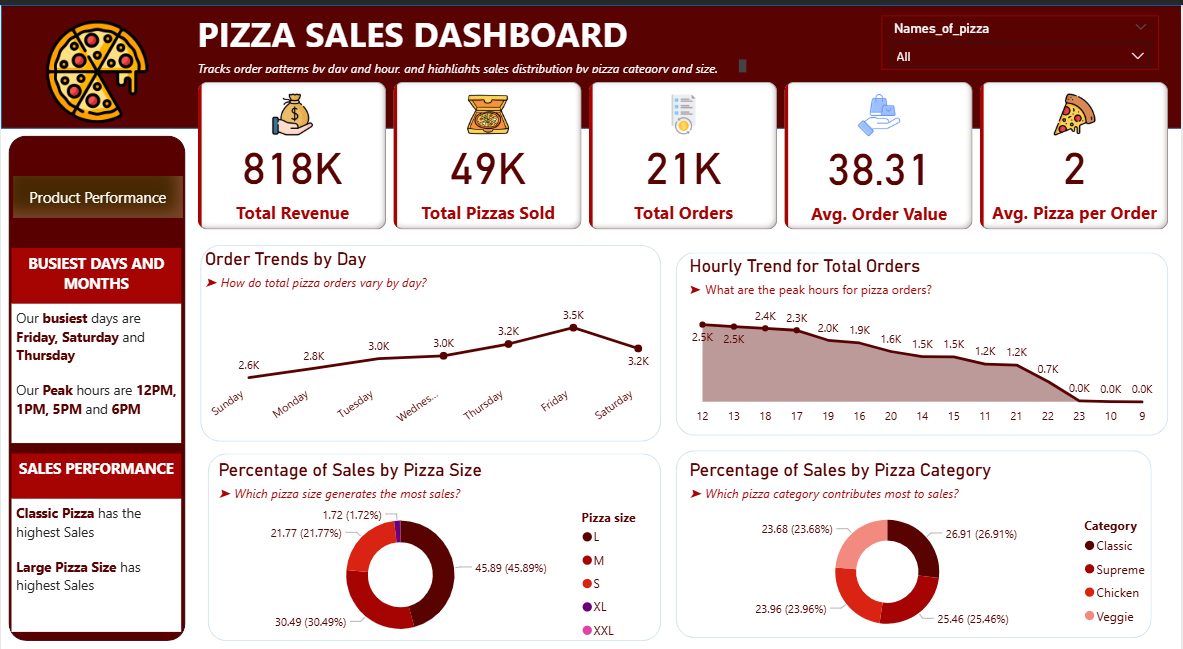

The page's visual inventory and layout, read from the dashboard file:
{"tool":"powerbi","page":{"name":"Sales Trends Overview","canvas":[1280,720],"ordinal":0},"visuals":[{"type":"shape","box":[0,0,1280.5,134.2],"z":0},{"type":"shape","box":[0,133.4,208.2,564.4],"z":1000},{"type":"cardVisual","fields":{"Data":["Sum(KPI's - TOTAL REVENUE.Column1)","Sum(KPI's - Total pizzas sold.Column1)","Sum(KPI's - Total orders.Column1)","Sum(KPI's - Average order value.Column1)","Sum(KPI's - Average pizza per order.Column1)"]},"box":[208.2,78.1,1065.4,170.8],"z":2000},{"type":"shape","box":[208.2,252.1,515.6,229.3],"z":3000},{"type":"shape","box":[723.8,260.2,549.8,214.7],"z":4000},{"type":"shape","box":[216.3,478.2,507.5,219.6],"z":5000},{"type":"shape","box":[723.8,475,531.9,219.6],"z":6000},{"type":"textbox","box":[208.2,0,582.3,66.7],"z":7000},{"type":"image","box":[0,11.4,208.2,122],"z":8000},{"type":"lineChart","title":"Order Trends by Day","fields":{"Y":["Sum(QUESTIONS 1 - Daily Trends For Total Orders.Column2)"],"Category":["QUESTIONS 1 - Daily Trends For Total Orders.Day"]},"box":[216.3,263.5,507.5,204.9],"z":9000},{"type":"lineChart","title":"Hourly Trend for Total Orders","fields":{"Y":["Sum(Question 2 - Hourly trends for total orders.Orders)"],"Category":["Question 2 - Hourly trends for total orders.Hour"]},"box":[741.7,271.6,514,191.9],"z":10000},{"type":"donutChart","title":"Percentage of Sales by Pizza Category","fields":{"Category":["Question 3 - Percentage of Sales.Category"],"Y":["Sum(Question 3 - Percentage of Sales.Percentage sales)"]},"box":[741.7,492.8,514,198.4],"z":11000},{"type":"donutChart","title":"Percentage of Sales by Pizza Size","fields":{"Category":["Question 4 - Percentage of Sales - size.Pizza size"],"Y":["Sum(Question 4 - Percentage of Sales - size.Percentage of sales)"]},"box":[231,492.8,481.5,204.9],"z":12000},{"type":"textbox","box":[11.4,323.7,183.8,151.3],"z":13000},{"type":"textbox","box":[11.4,263.5,183.8,60.2],"z":14000},{"type":"textbox","box":[11.4,535.1,183.8,144.8],"z":15000},{"type":"textbox","box":[11.4,486.3,183.8,48.8],"z":16000},{"type":"textbox","box":[208.2,53.7,605.1,24.4],"z":17000},{"type":"actionButton","title":"Product Performance Breakdown","box":[13,185.4,183.8,45.5],"z":18000},{"type":"slicer","fields":{"Values":["name.Names_of_pizza"]},"box":[954.8,11.4,300.9,58.6],"z":18001}]}

Visuals, with their boxes in screenshot pixels (x1, y1, x2, y2), scaled from the page's 1280x720 canvas onto the 1183x649 screenshot:
shape: 0 0 1182 121
shape: 0 120 192 629
cardVisual - Sum(KPI's - TOTAL REVENUE.Column1) x Sum(KPI's - Total pizzas sold.Column1): 192 70 1177 224
shape: 192 227 669 434
shape: 669 235 1177 428
shape: 200 431 669 629
shape: 669 428 1161 626
textbox: 192 0 731 60
image: 0 10 192 120
"Order Trends by Day" lineChart: 200 238 669 422
"Hourly Trend for Total Orders" lineChart: 685 245 1161 418
"Percentage of Sales by Pizza Category" donutChart: 685 444 1161 623
"Percentage of Sales by Pizza Size" donutChart: 213 444 659 629
textbox: 11 292 180 428
textbox: 11 238 180 292
textbox: 11 482 180 613
textbox: 11 438 180 482
textbox: 192 48 752 70
"Product Performance Breakdown" actionButton: 12 167 182 208
slicer - name.Names_of_pizza: 882 10 1161 63
